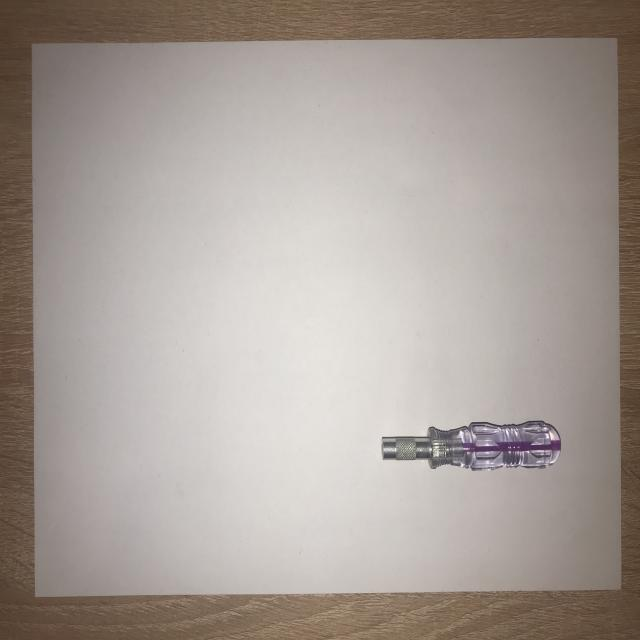screwdriver: (376, 410, 566, 490)
